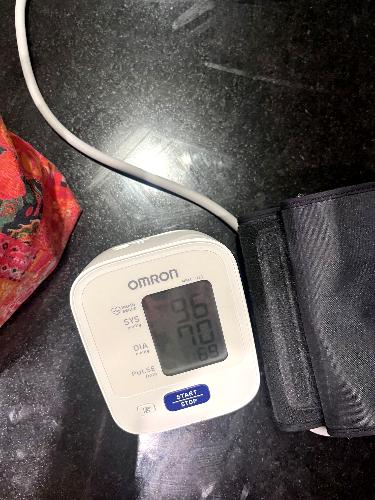bpm: (138, 275, 237, 382)
